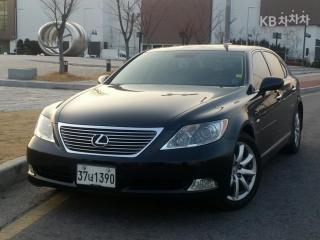0: (110, 173, 115, 185)
1: (94, 171, 98, 183)
3: (99, 172, 105, 184), (78, 170, 83, 182)
7: (83, 170, 88, 182)
9: (105, 172, 110, 185)
plate: (68, 159, 121, 192)
너: (88, 173, 94, 183)
